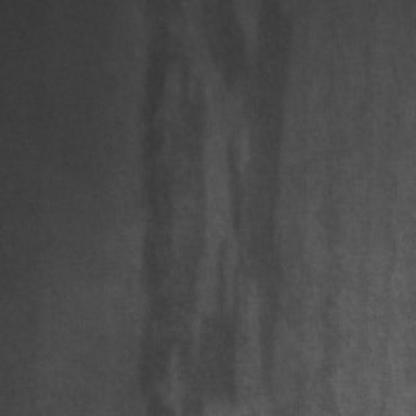inclusion: (141, 0, 289, 414)
